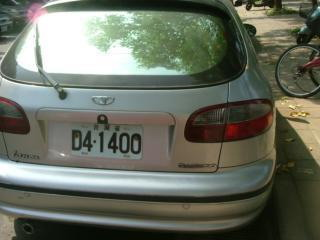plate: (69, 119, 143, 163)
